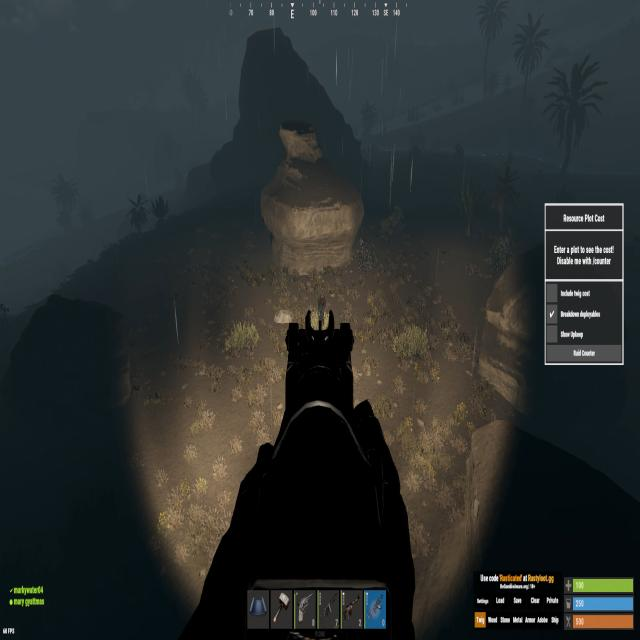Player: (316, 291, 326, 330)
